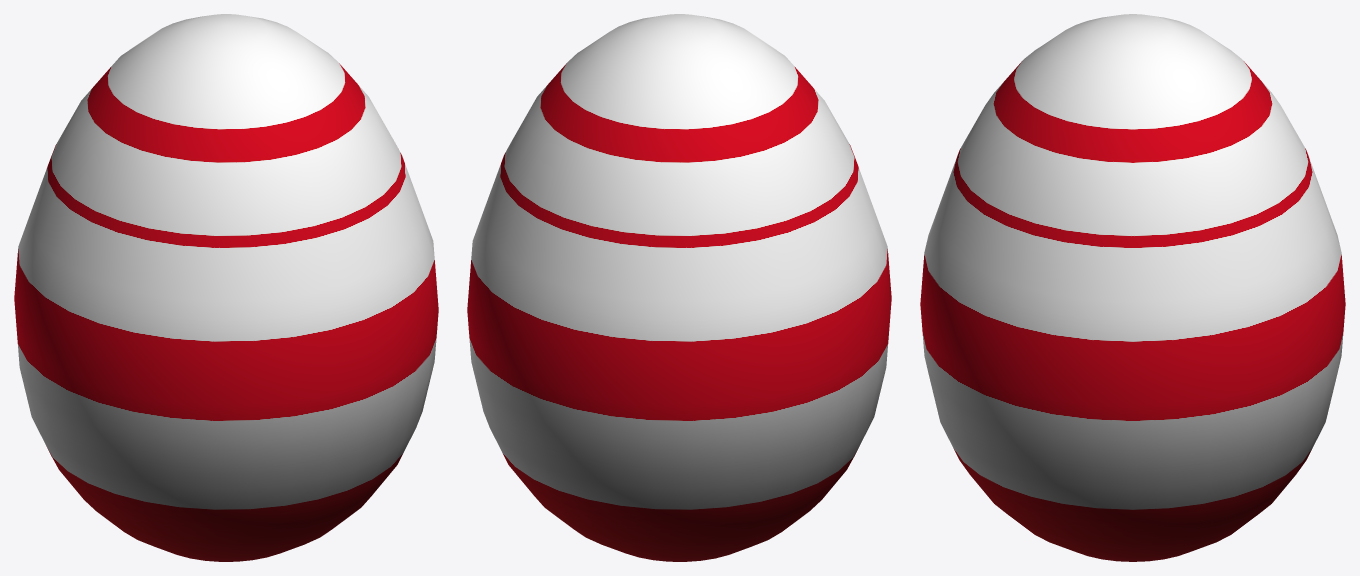
Rendered from egg10.glb.
The picture shows the model from 3 angles, left to right: view 1: azimuth 30°, elevation 25°; view 2: azimuth 150°, elevation 25°; view 3: azimuth 270°, elevation 25°; orthographic projection.
Parts seen in each view (by area): view 1: Sphere001; view 2: Sphere001; view 3: Sphere001.
Boxes of the visible parts, x1,y1,x2,y2 form: Sphere001: (14,14,438,561); Sphere001: (467,14,891,561); Sphere001: (920,14,1345,561).
Size of the model in its own units: 0.7237 by 0.9744 by 0.7237.
Materials: 1 (1 with a texture image).
